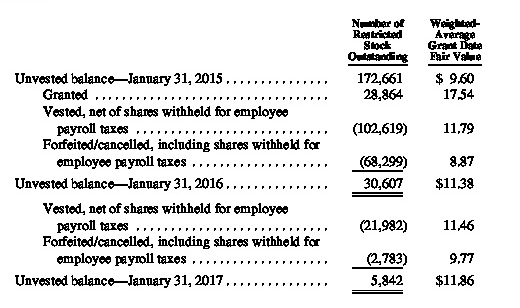table: (0, 0, 520, 308)
